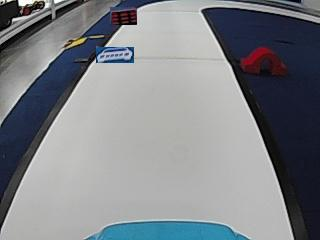bridge: (242, 45, 285, 76)
